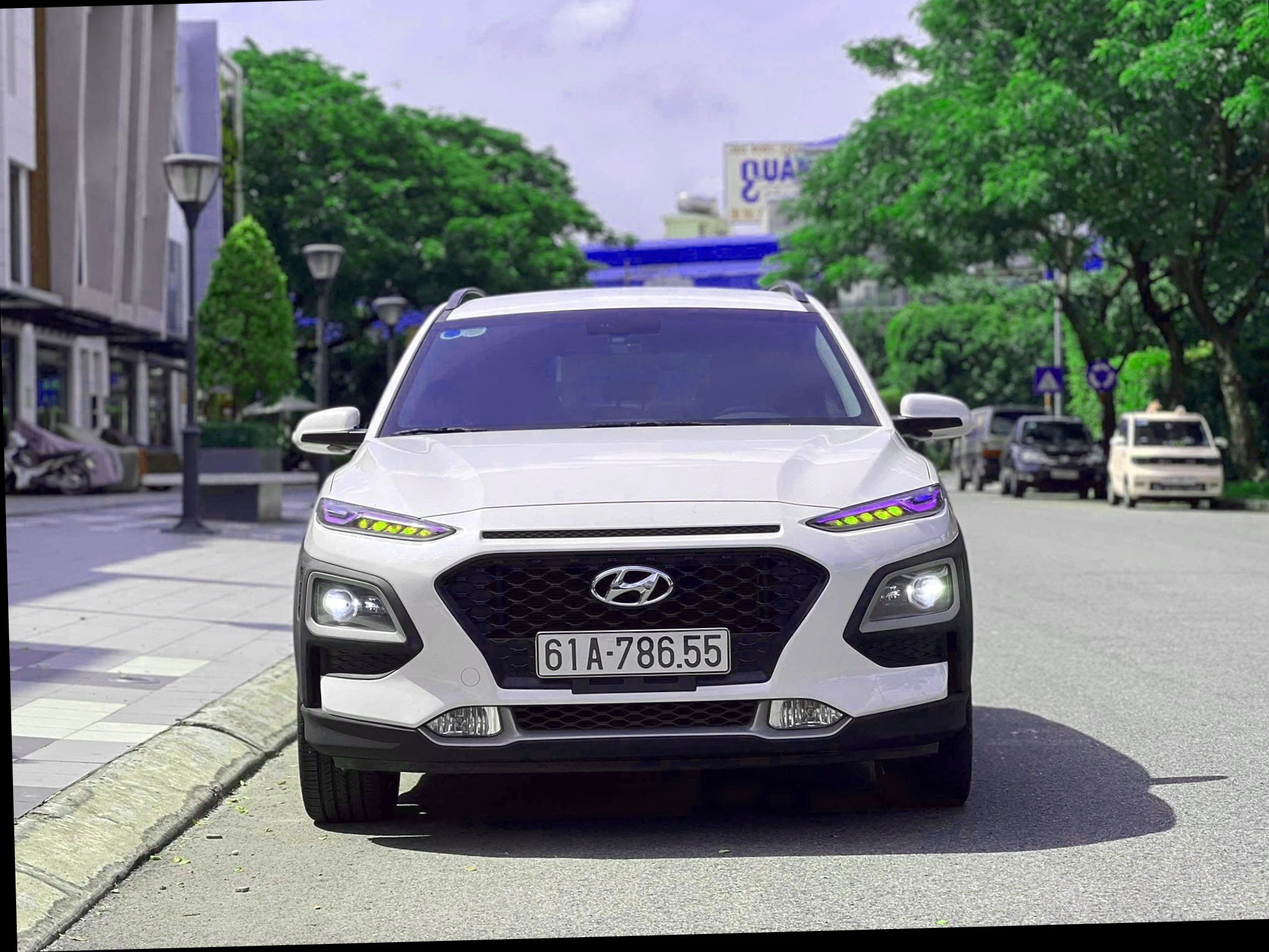Bien-so: (500, 652, 699, 712)
